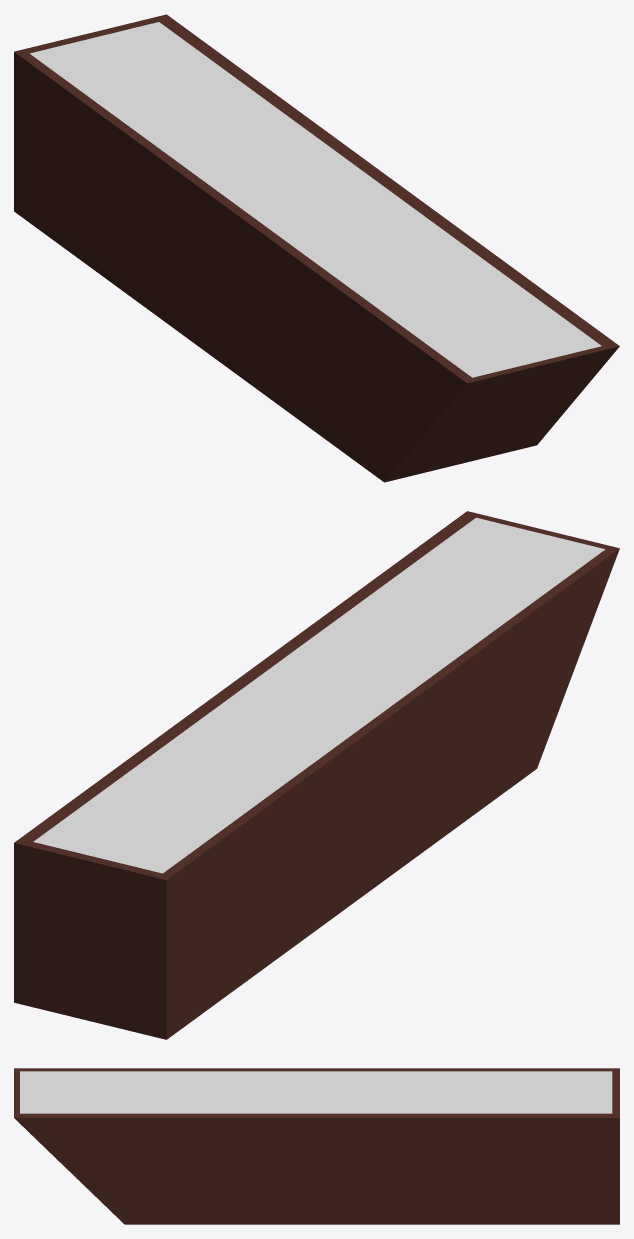
The model's file is BarCountertop.fbx.
3 views of the same model, one above another, from view 1: azimuth 30°, elevation 25°; view 2: azimuth 150°, elevation 25°; view 3: azimuth 270°, elevation 25° (orthographic). The views are drawn at different scales.
Parts seen in each view (by area): view 1: Bar; view 2: Bar; view 3: Bar.
Part boxes in pixels (x1=…): Bar: x1=14, y1=14, x2=619, y2=482; Bar: x1=14, y1=511, x2=619, y2=1039; Bar: x1=14, y1=1068, x2=619, y2=1224.
Size of the model in its own units: 200 by 200 by 1028.
